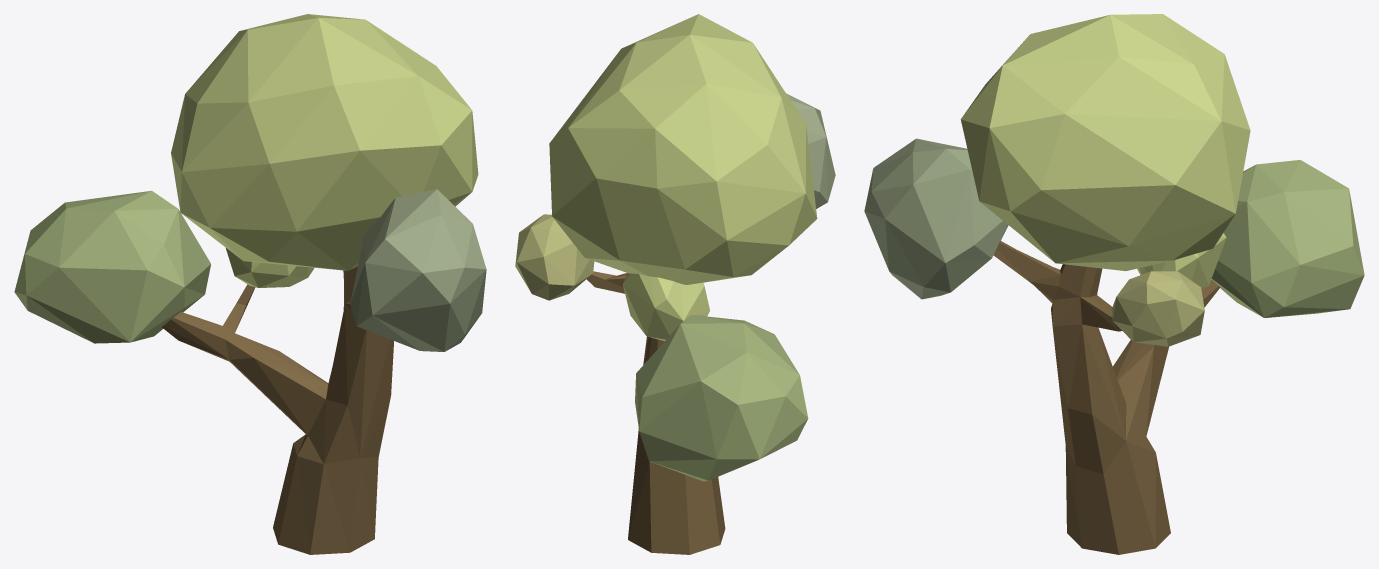
The model's file is tree3_felix.fbx.
3 renders of one model, left to right at view 1: azimuth 30°, elevation 25°; view 2: azimuth 150°, elevation 25°; view 3: azimuth 270°, elevation 25°, orthographic. The views are drawn at different scales.
Visible parts, largest first — view 1: Cylinder; view 2: Cylinder; view 3: Cylinder.
Part boxes in pixels (<box>): Cylinder: <box>14,14,486,554</box>; Cylinder: <box>515,14,835,554</box>; Cylinder: <box>864,14,1364,554</box>.
Size of the model in its own units: 7.76 by 10.9 by 9.62.
